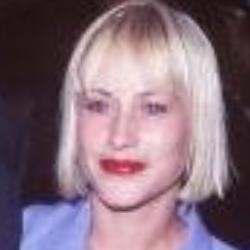face: (42, 1, 243, 227)
